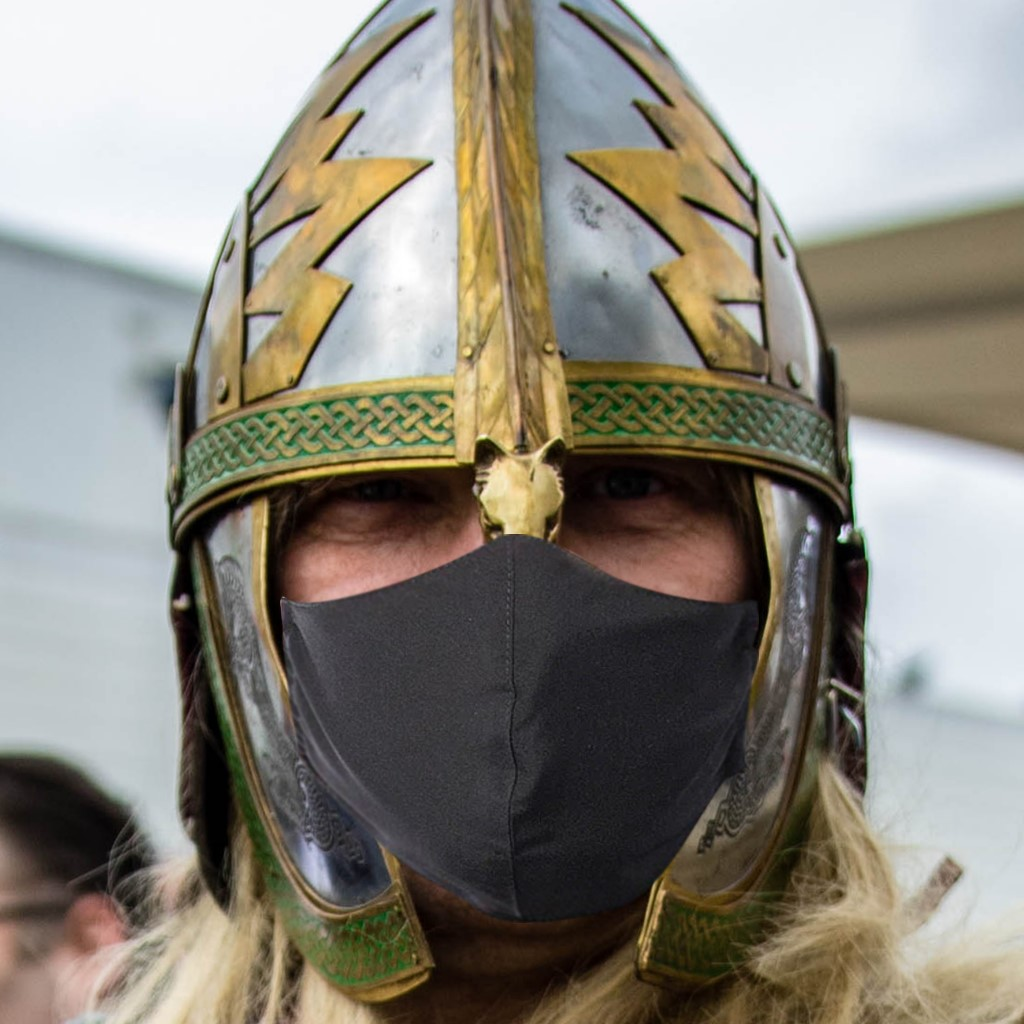con_mascara: (225, 410, 786, 968)
